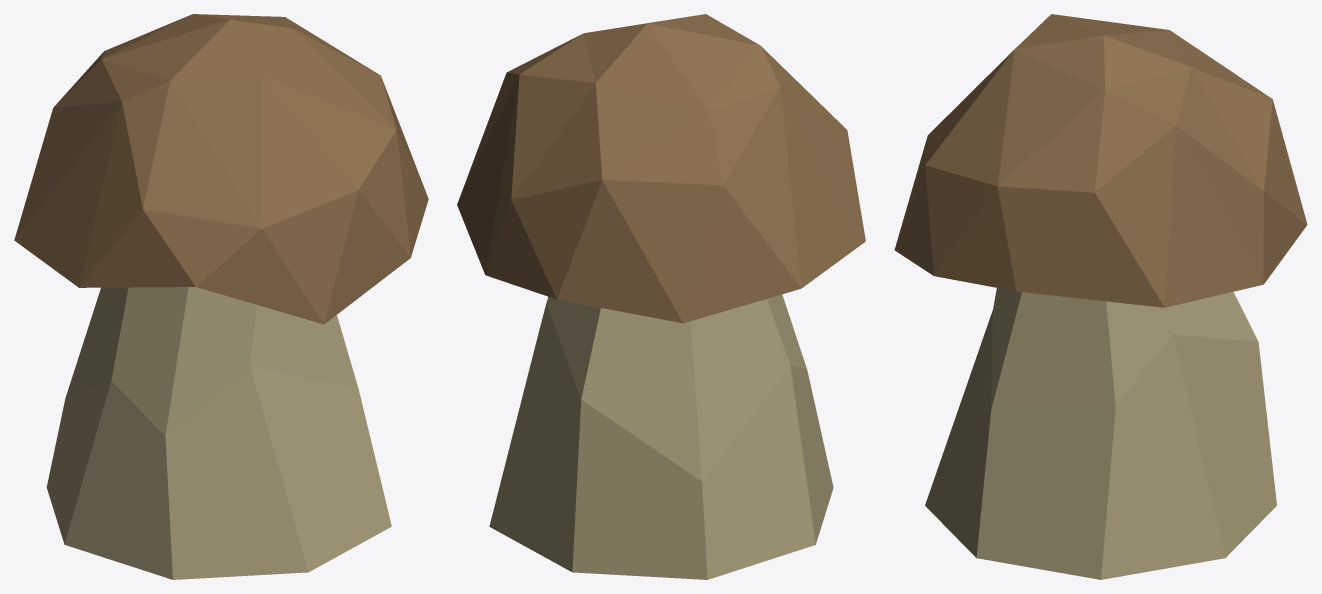
File: Mushroom01.fbx
3 views of the same model, side by side, from view 1: azimuth 30°, elevation 25°; view 2: azimuth 150°, elevation 25°; view 3: azimuth 270°, elevation 25° (orthographic).
Visible parts, largest first — view 1: Fungus; view 2: Fungus; view 3: Fungus.
Part boxes in pixels (<box>): Fungus: <box>14,14,428,579</box>; Fungus: <box>457,14,865,579</box>; Fungus: <box>894,14,1307,579</box>.
Size of the model in its own units: 1.52 by 2.03 by 1.6.
